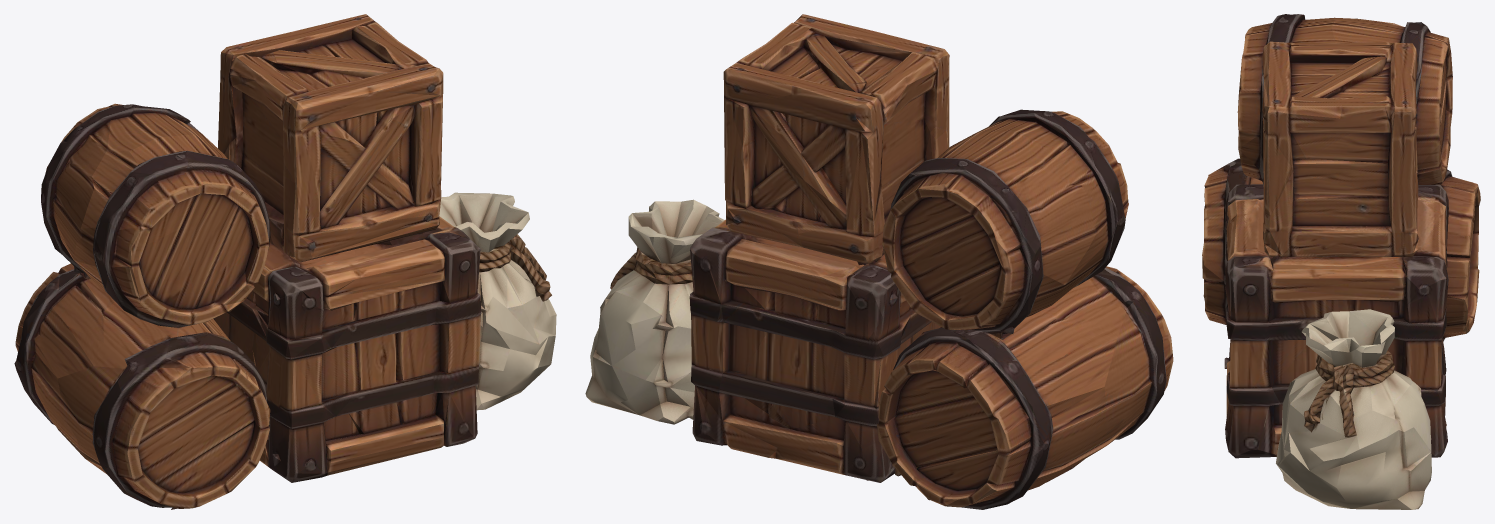
The model's file is crates.fbx.
3 views of the same model, side by side, from view 1: azimuth 30°, elevation 25°; view 2: azimuth 150°, elevation 25°; view 3: azimuth 270°, elevation 25° (orthographic). The views are drawn at different scales.
Parts seen in each view (by area): view 1: crates; view 2: crates; view 3: crates.
Boxes of the visible parts, <box> form: crates: <box>14,14,556,509</box>; crates: <box>585,14,1173,509</box>; crates: <box>1202,14,1480,509</box>.
Bounding box in the file's own units: 2.28 × 1.6 × 1.16.
